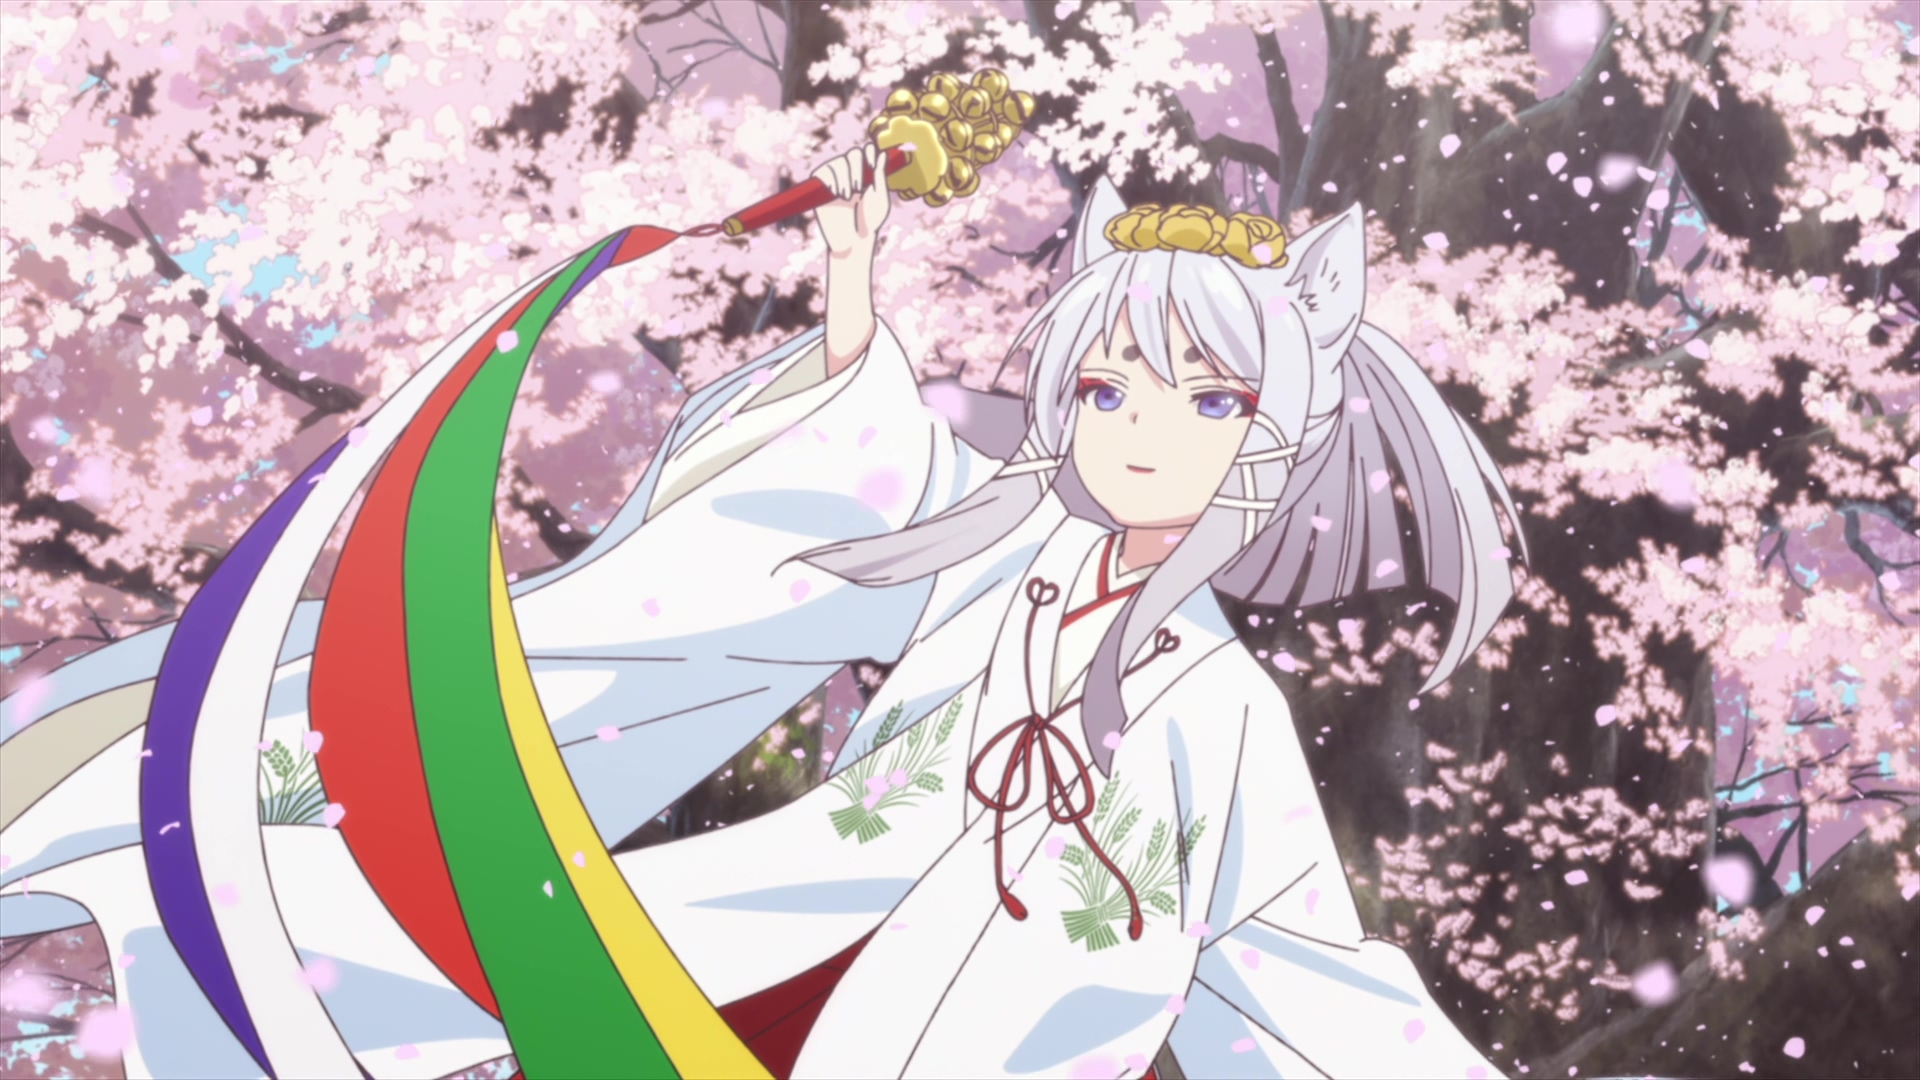柊: (1, 142, 1528, 1080)
